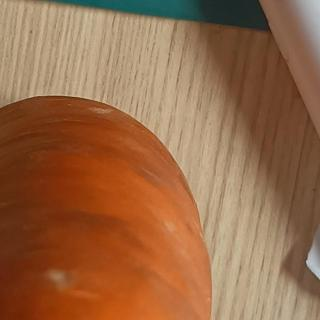carrot: (0, 93, 224, 320)
